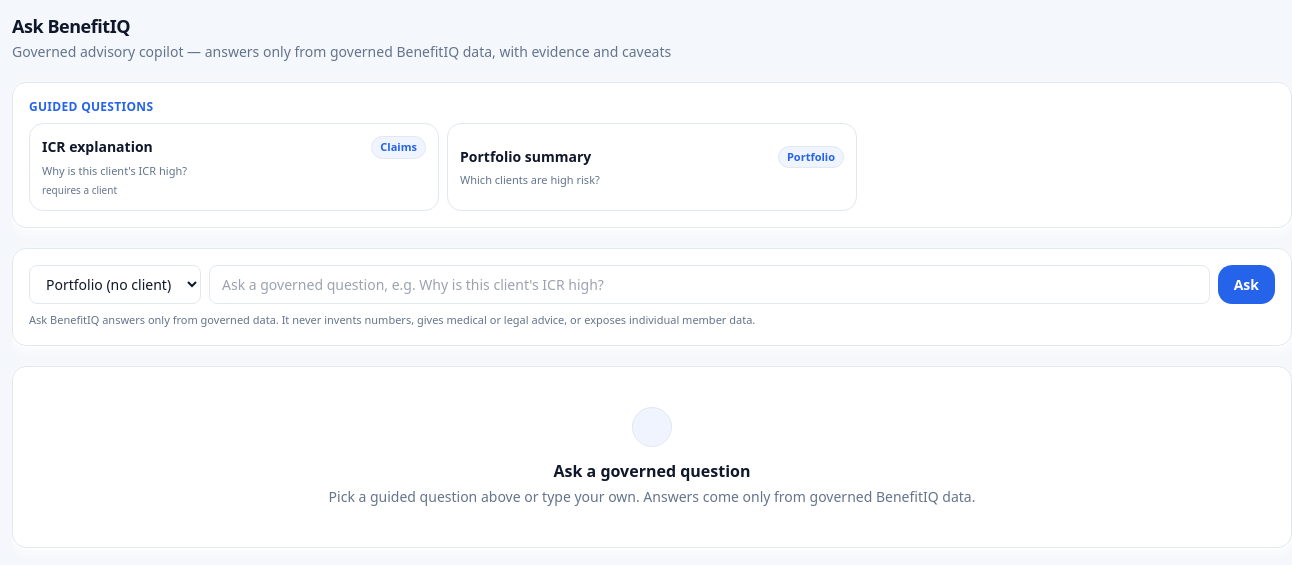
Scenario: Ask BenefitIQ (governed copilot) › renders the Unsupported state
Type "weather?" into the field with test id "ask-input" at {"x": 709, "y": 284}, box [209,265,1210,304]
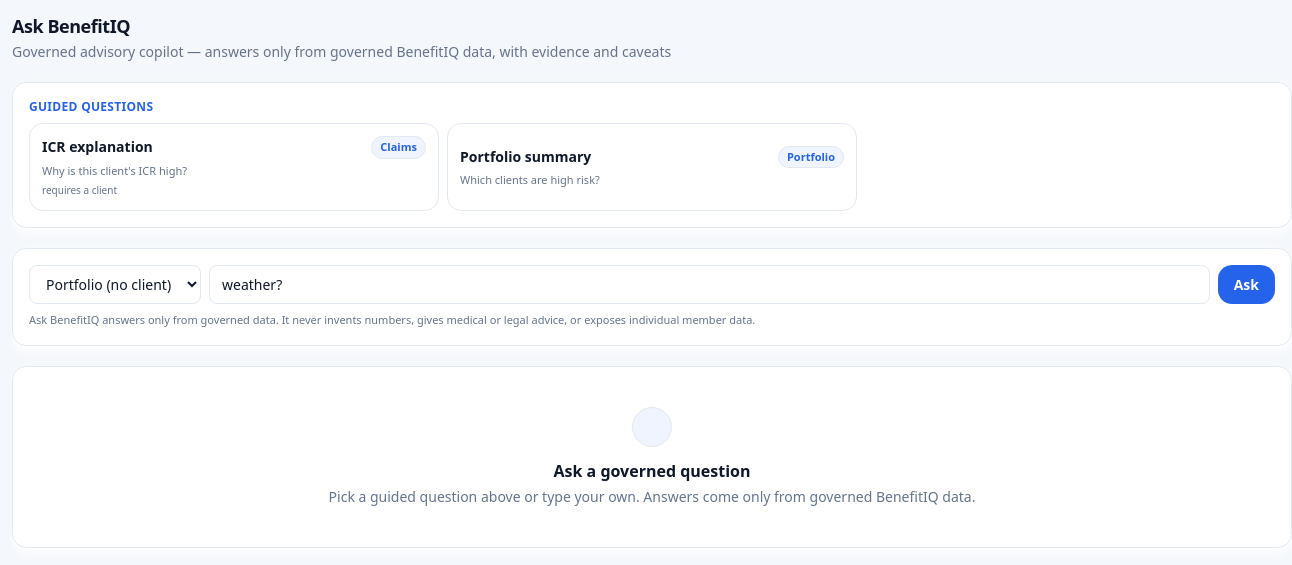
Click the button with test id "ask-submit" at {"x": 1246, "y": 284}, box [1218,265,1275,304]
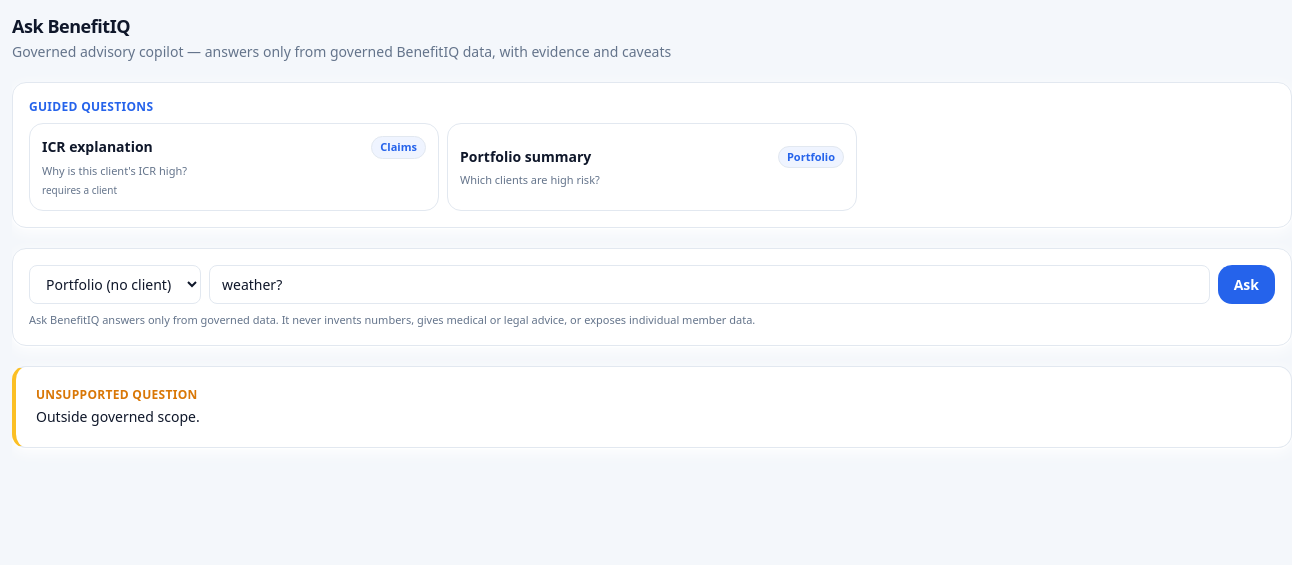
expect the element with test id "ask-unsupported" is shown: met, box [36,386,200,426]
